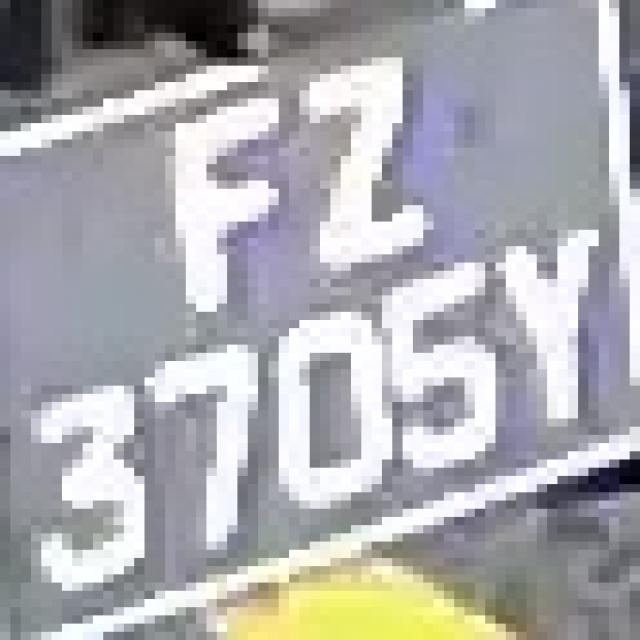0: (237, 295, 413, 509)
3: (0, 377, 165, 591)
5: (392, 263, 506, 492)
7: (114, 337, 268, 582)
F: (134, 82, 300, 304)
Y: (485, 205, 609, 435)
Z: (268, 49, 444, 279)
